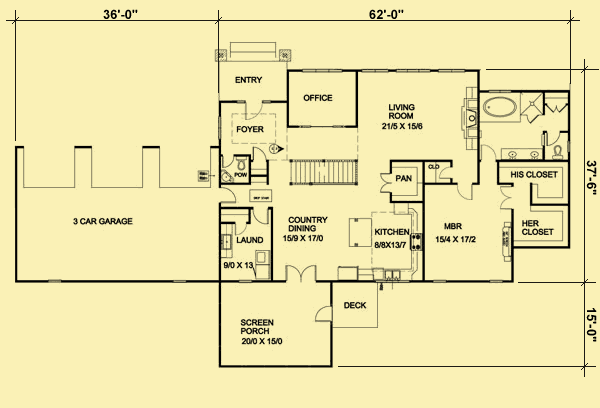door: (278, 263, 317, 283), (493, 182, 515, 213), (249, 202, 270, 227), (312, 301, 333, 325), (452, 180, 473, 202), (244, 98, 264, 120), (479, 140, 498, 163), (377, 171, 393, 196), (248, 145, 268, 164), (217, 186, 236, 206), (545, 128, 564, 146), (547, 100, 567, 114), (219, 152, 235, 168), (233, 219, 247, 237), (437, 164, 453, 179), (526, 111, 539, 127)
large sink: (550, 143, 566, 159), (235, 158, 248, 172)
small sink: (499, 146, 545, 159)
stairs: (289, 155, 360, 187)
tub: (481, 92, 519, 121)
windows: (392, 65, 433, 75), (299, 67, 346, 75), (426, 275, 451, 287), (215, 111, 224, 141), (359, 67, 391, 75), (435, 66, 467, 74), (487, 276, 507, 288), (168, 277, 189, 286), (44, 277, 64, 286), (236, 275, 252, 286)
